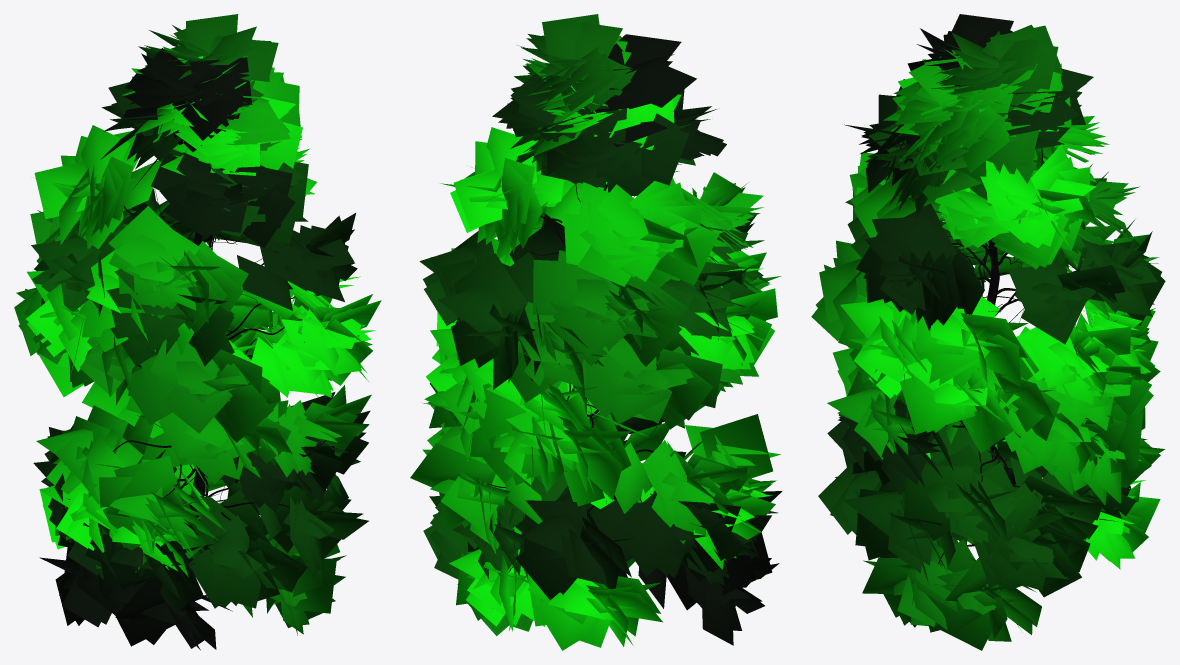
Rendered from SilverLime_5.fbx.
The picture shows the model from 3 angles, left to right: view 1: azimuth 30°, elevation 25°; view 2: azimuth 150°, elevation 25°; view 3: azimuth 270°, elevation 25°; orthographic projection. The views are drawn at different scales.
Parts seen in each view (by area): view 1: SilverLime_5; view 2: SilverLime_5; view 3: SilverLime_5.
Boxes of the visible parts, left/top/right/bottom form: SilverLime_5: left=14, top=14, right=381, bottom=650; SilverLime_5: left=410, top=14, right=782, bottom=650; SilverLime_5: left=811, top=14, right=1165, bottom=650.
Bounding box in the file's own units: 564 × 969 × 538.
